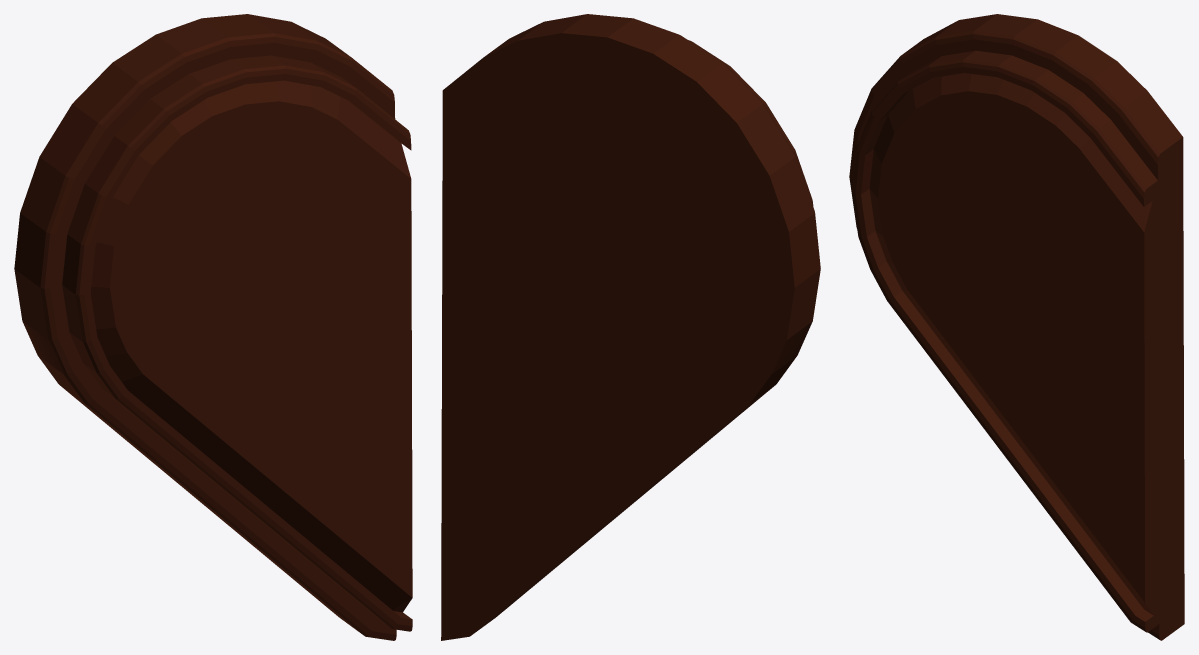
3 views of the same model, side by side, from view 1: azimuth 30°, elevation 25°; view 2: azimuth 150°, elevation 25°; view 3: azimuth 330°, elevation 25° (orthographic). The views are drawn at different scales.
Parts seen in each view (by area): view 1: 1; view 2: 1; view 3: 1.
Boxes of the visible parts, bbox=[...] form: 1: bbox=[14, 14, 412, 640]; 1: bbox=[441, 14, 820, 640]; 1: bbox=[849, 14, 1184, 640].
Size of the model in its own units: 0.9876 by 1.72 by 0.2165.
